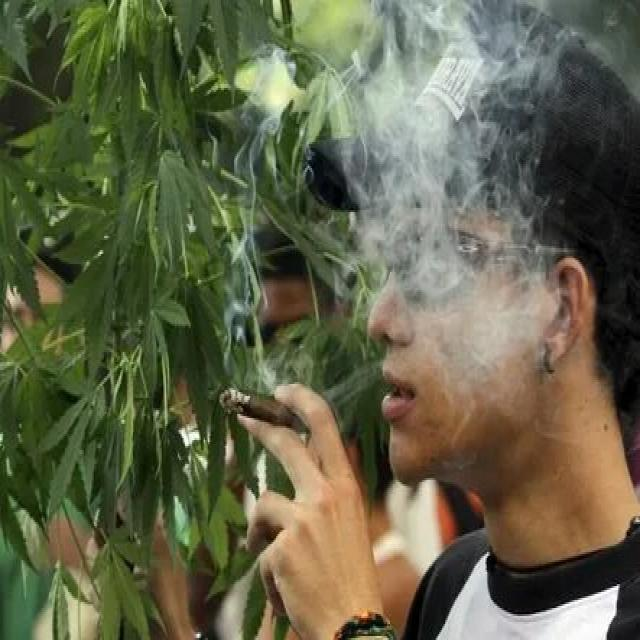smoke: (212, 380, 310, 438)
